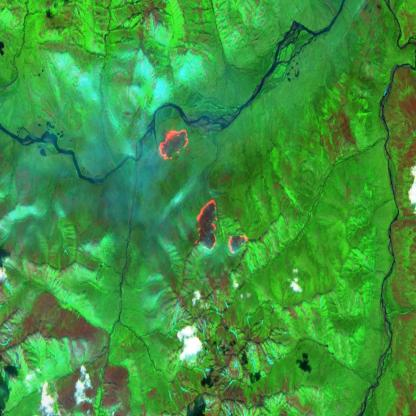fire: (194, 196, 250, 256), (158, 126, 190, 164)
